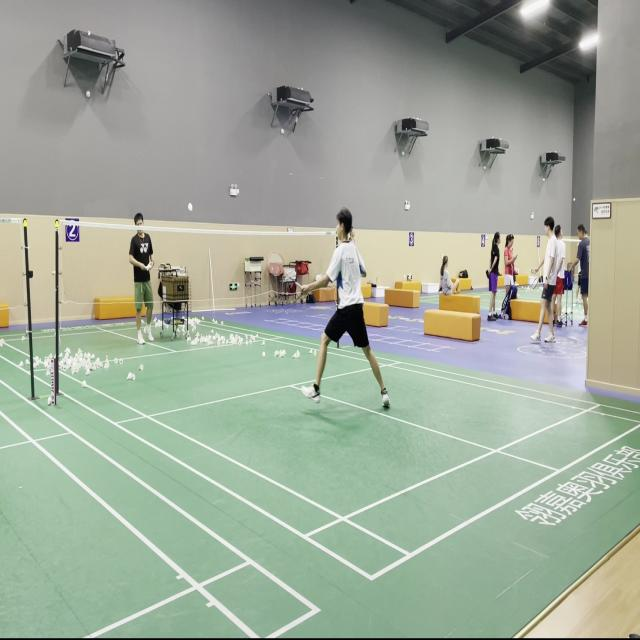shuttlecock: (187, 201, 194, 213)
